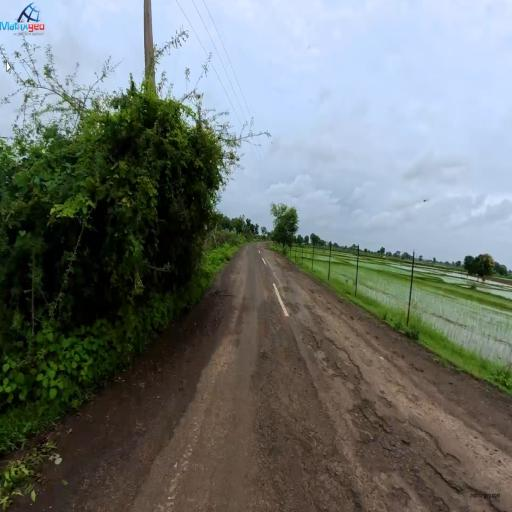ravelling: (313, 321, 379, 435), (401, 393, 470, 491), (275, 456, 362, 501)
